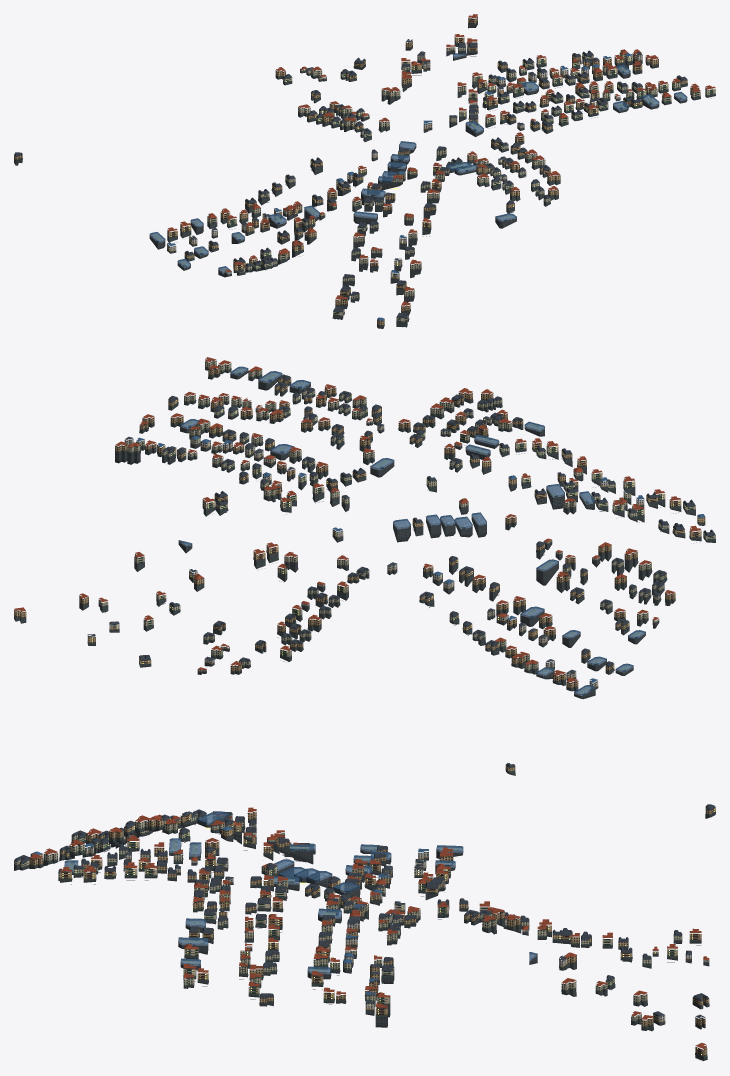
File: osm_buildings_T_E02_S02_Q3.glb
3 renders of one model, top to bottom at view 1: azimuth 30°, elevation 25°; view 2: azimuth 150°, elevation 25°; view 3: azimuth 270°, elevation 25°, orthographic. The views are drawn at different scales.
Visible parts, largest first — view 1: OSM_T_E02_S02_Q3_foundation, OSM_T_E02_S02_Q3_wall_cream_stucco, OSM_T_E02_S02_Q3_wall_french_ochre, OSM_T_E02_S02_Q3_roof_terracotta, OSM_T_E02_S02_Q3_roof_mansard_slate, OSM_T_E02_S02_Q3_greenhouse_blend, OSM_T_E02_S02_Q3_roof_mansard_deck, OSM_T_E02_S02_Q3_roof_mint_metal, OSM_T_E02_S02_Q3_trim_cornice, OSM_T_E02_S02_Q3_balcony_railing, OSM_T_E02_S02_Q3_wall_pastel_sand; view 2: OSM_T_E02_S02_Q3_foundation, OSM_T_E02_S02_Q3_wall_cream_stucco, OSM_T_E02_S02_Q3_wall_french_ochre, OSM_T_E02_S02_Q3_roof_terracotta, OSM_T_E02_S02_Q3_roof_mansard_slate, OSM_T_E02_S02_Q3_greenhouse_blend, OSM_T_E02_S02_Q3_roof_mansard_deck, OSM_T_E02_S02_Q3_roof_mint_metal, OSM_T_E02_S02_Q3_wall_pastel_sand, OSM_T_E02_S02_Q3_balcony_railing, OSM_T_E02_S02_Q3_wall_warm_white; view 3: OSM_T_E02_S02_Q3_foundation, OSM_T_E02_S02_Q3_wall_french_ochre, OSM_T_E02_S02_Q3_wall_cream_stucco, OSM_T_E02_S02_Q3_roof_terracotta, OSM_T_E02_S02_Q3_roof_mansard_slate, OSM_T_E02_S02_Q3_greenhouse_blend, OSM_T_E02_S02_Q3_roof_mansard_deck, OSM_T_E02_S02_Q3_roof_mint_metal, OSM_T_E02_S02_Q3_trim_cornice, OSM_T_E02_S02_Q3_balcony_railing, OSM_T_E02_S02_Q3_wall_pastel_sand, OSM_T_E02_S02_Q3_wall_warm_white (+2 smaller).
Boxes of the visible parts, bbox=[...] form: OSM_T_E02_S02_Q3_foundation: bbox=[14, 21, 715, 328]; OSM_T_E02_S02_Q3_wall_cream_stucco: bbox=[207, 42, 715, 321]; OSM_T_E02_S02_Q3_wall_french_ochre: bbox=[14, 15, 699, 325]; OSM_T_E02_S02_Q3_roof_terracotta: bbox=[168, 14, 715, 315]; OSM_T_E02_S02_Q3_roof_mansard_slate: bbox=[14, 39, 687, 318]; OSM_T_E02_S02_Q3_greenhouse_blend: bbox=[149, 53, 687, 274]; OSM_T_E02_S02_Q3_roof_mansard_deck: bbox=[15, 42, 686, 316]; OSM_T_E02_S02_Q3_roof_mint_metal: bbox=[14, 21, 715, 325]; OSM_T_E02_S02_Q3_trim_cornice: bbox=[15, 18, 711, 327]; OSM_T_E02_S02_Q3_balcony_railing: bbox=[170, 18, 714, 291]; OSM_T_E02_S02_Q3_wall_pastel_sand: bbox=[189, 53, 642, 244]; OSM_T_E02_S02_Q3_foundation: bbox=[14, 367, 715, 775]; OSM_T_E02_S02_Q3_wall_cream_stucco: bbox=[98, 359, 715, 670]; OSM_T_E02_S02_Q3_wall_french_ochre: bbox=[14, 368, 705, 771]; OSM_T_E02_S02_Q3_roof_terracotta: bbox=[14, 357, 701, 681]; OSM_T_E02_S02_Q3_roof_mansard_slate: bbox=[87, 375, 715, 767]; OSM_T_E02_S02_Q3_greenhouse_blend: bbox=[178, 366, 645, 695]; OSM_T_E02_S02_Q3_roof_mansard_deck: bbox=[140, 371, 714, 765]; OSM_T_E02_S02_Q3_roof_mint_metal: bbox=[16, 368, 715, 773]; OSM_T_E02_S02_Q3_wall_pastel_sand: bbox=[109, 407, 608, 678]; OSM_T_E02_S02_Q3_balcony_railing: bbox=[15, 360, 704, 773]; OSM_T_E02_S02_Q3_wall_warm_white: bbox=[223, 417, 659, 688]; OSM_T_E02_S02_Q3_foundation: bbox=[14, 811, 715, 1060]; OSM_T_E02_S02_Q3_wall_french_ochre: bbox=[29, 807, 715, 1056]; OSM_T_E02_S02_Q3_wall_cream_stucco: bbox=[14, 813, 682, 1021]; OSM_T_E02_S02_Q3_roof_terracotta: bbox=[22, 807, 709, 1048]; OSM_T_E02_S02_Q3_roof_mansard_slate: bbox=[14, 805, 715, 1018]; OSM_T_E02_S02_Q3_greenhouse_blend: bbox=[64, 811, 537, 974]; OSM_T_E02_S02_Q3_roof_mansard_deck: bbox=[16, 804, 713, 998]; OSM_T_E02_S02_Q3_roof_mint_metal: bbox=[14, 811, 715, 1057]; OSM_T_E02_S02_Q3_trim_cornice: bbox=[14, 807, 710, 1024]; OSM_T_E02_S02_Q3_balcony_railing: bbox=[24, 813, 714, 1053]; OSM_T_E02_S02_Q3_wall_pastel_sand: bbox=[124, 836, 709, 1022]; OSM_T_E02_S02_Q3_wall_warm_white: bbox=[85, 832, 528, 945].
Size of the model in its own units: 997 by 251 by 978.
Materials: 16 (16 with a texture image).
